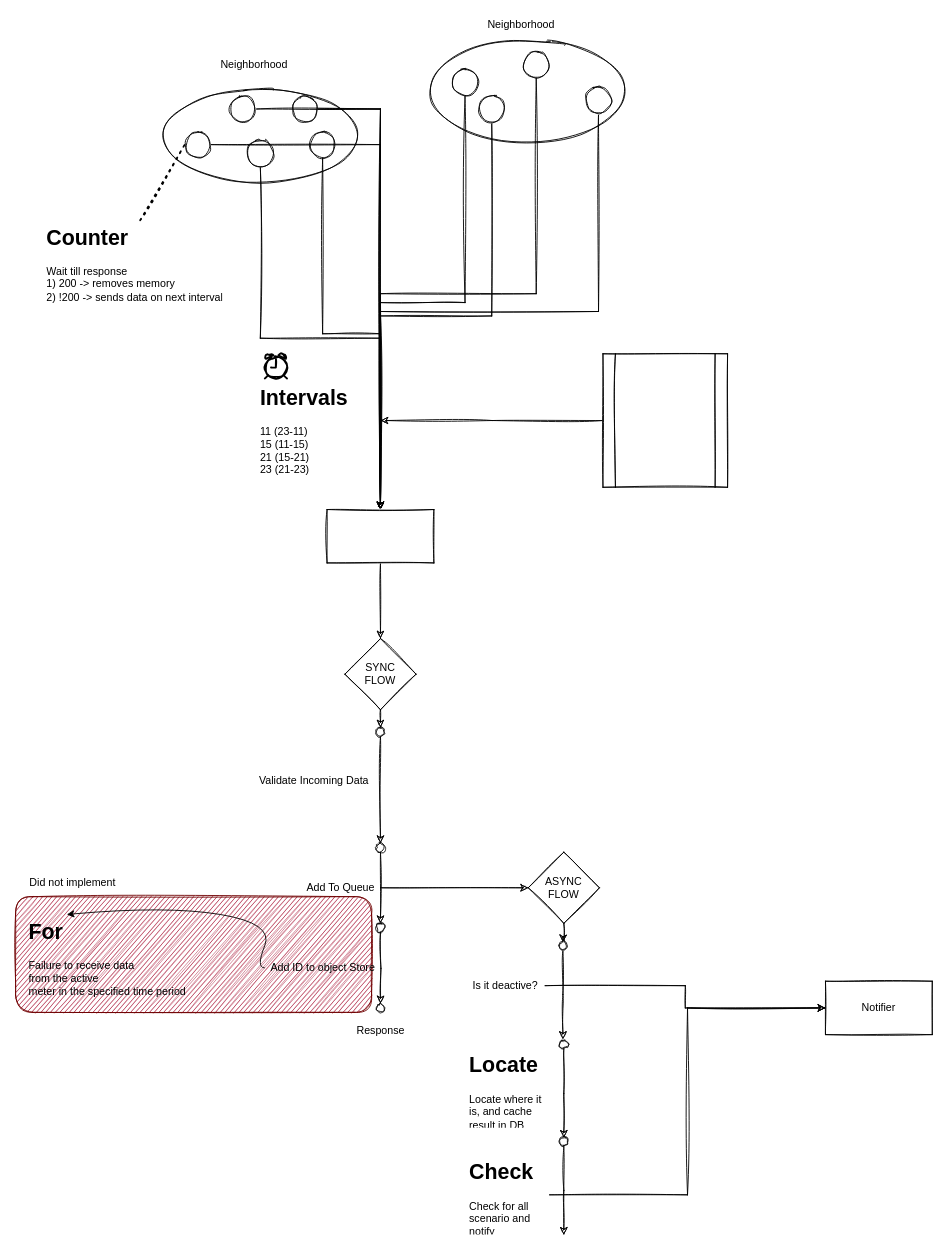
Some shapes in this 948 by 1258 pixel diagram are drawn without their labels. The box of each missing label's shape, as (x1, y1, x2, y2) in pixels:
Data Frame Counter ID Datetime Consumption Rate Geo Location: (602, 353, 728, 487)
Server: (326, 509, 434, 563)
